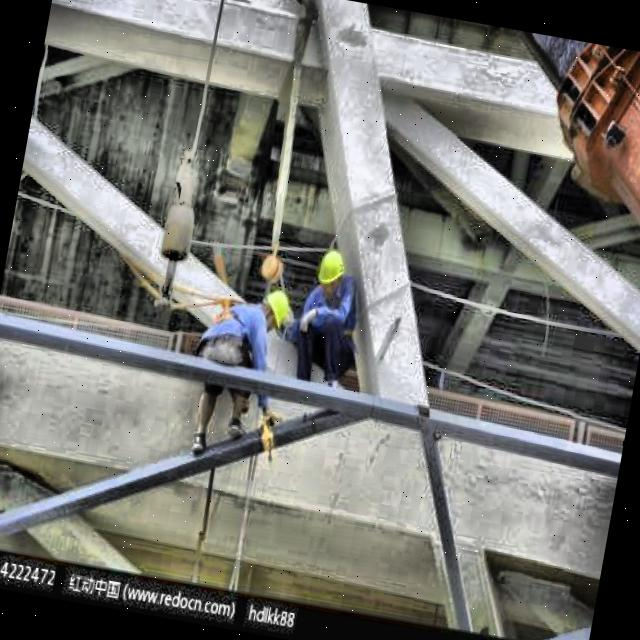helmet: (308, 244, 351, 298), (252, 283, 293, 335)
